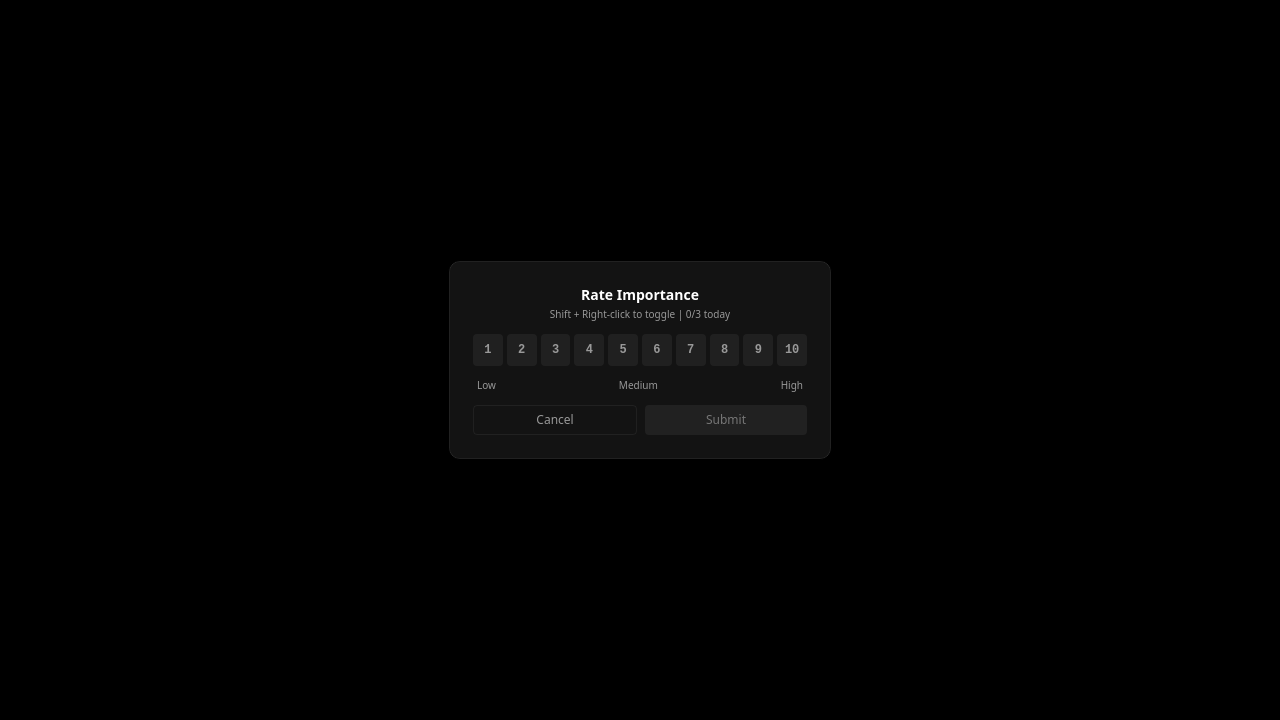
Test: RatingOverlay › clicking a rating number selects it
Click the button "7": (691, 350) left=676, top=334, right=706, bottom=366
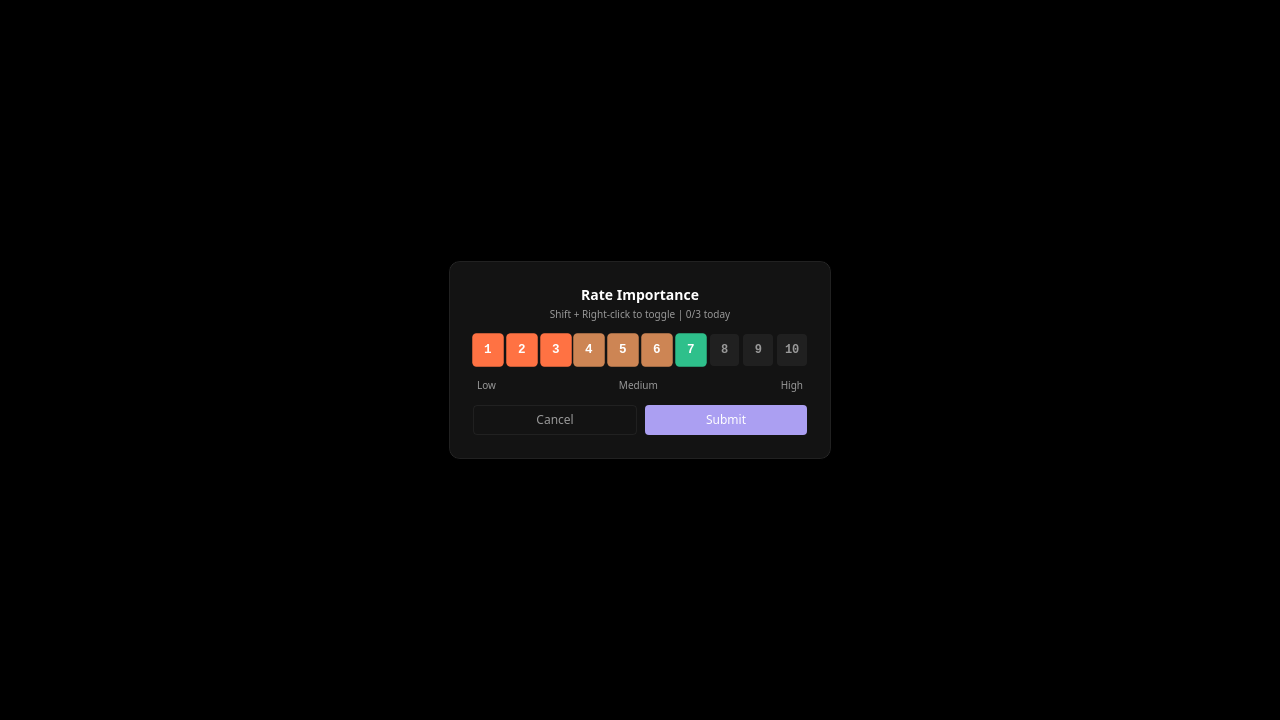
Expected: the button "Submit" is enabled, left=645, top=405, right=807, bottom=435
